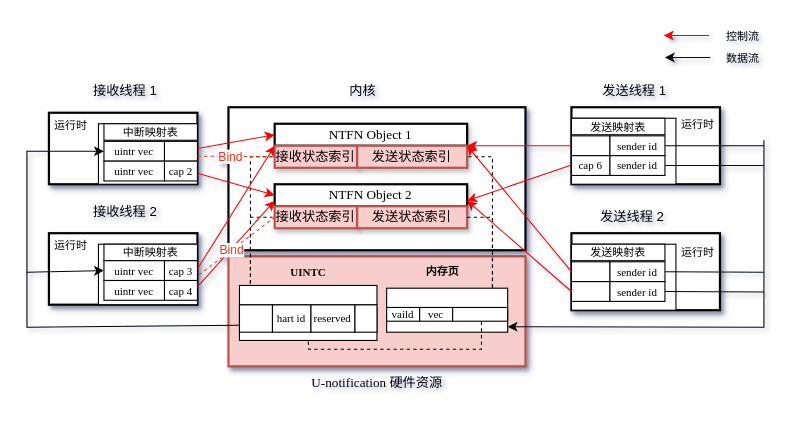
Some shapes in this 802 by 425 pixel diagram are drawn without their labels. Here are the shapes that lost their labels. From the top down, the centre of each, then its label:
point 180,150: cap 1
point 590,145: cap 5
point 590,271: cap 7
point 590,290: cap 8
point 307,294: 接收状态表
point 447,297: 发送状态表
point 480,313: recv index
point 255,318: mode
point 365,318: irq
